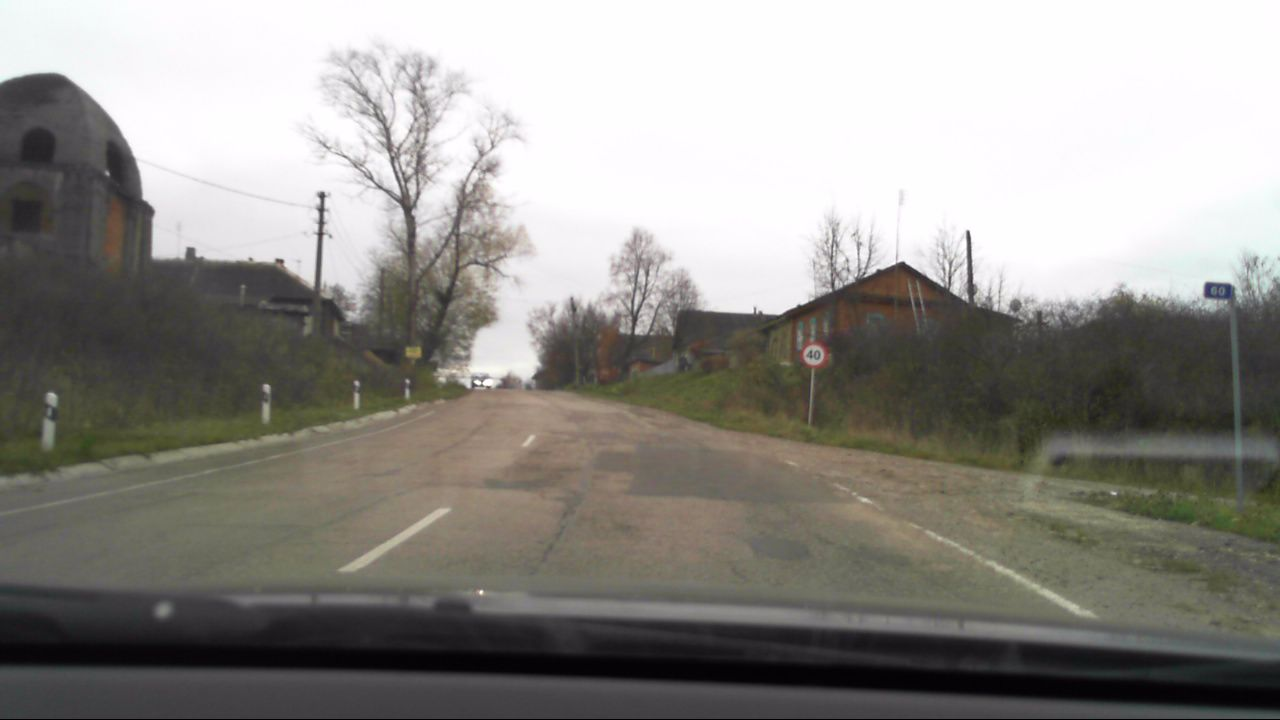speed_warning_40: (801, 343, 826, 368)
